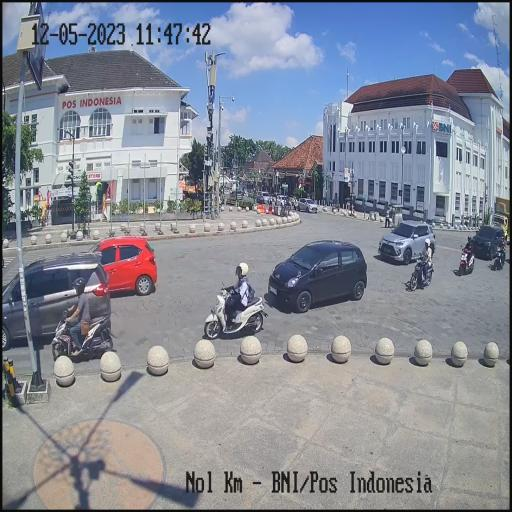mobil: (0, 250, 111, 348), (267, 237, 369, 318), (84, 234, 160, 301), (376, 219, 436, 267), (469, 219, 505, 259)
motor: (202, 275, 268, 342), (49, 298, 117, 362), (410, 250, 435, 293), (458, 243, 476, 277)
